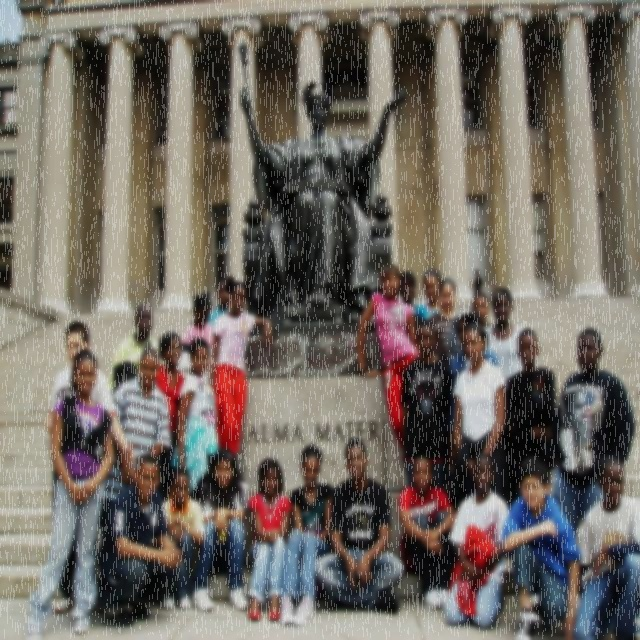pessoa: (232, 75, 411, 323), (24, 346, 116, 640), (46, 320, 138, 613), (92, 346, 174, 614), (548, 326, 638, 540), (314, 437, 406, 616), (96, 451, 184, 629), (500, 454, 582, 640), (356, 261, 422, 464), (572, 453, 640, 639), (443, 451, 511, 631), (208, 275, 274, 456), (278, 443, 338, 628), (451, 323, 508, 513), (190, 446, 251, 613), (503, 327, 558, 512), (398, 318, 455, 492), (397, 454, 459, 612), (170, 336, 220, 502), (448, 306, 498, 470), (247, 457, 293, 624), (161, 465, 207, 610), (154, 330, 187, 503), (482, 286, 540, 382), (106, 302, 165, 384), (176, 290, 218, 390), (426, 276, 458, 366), (414, 268, 442, 334), (398, 270, 430, 316), (207, 277, 230, 327), (472, 292, 492, 328), (472, 268, 484, 295)
